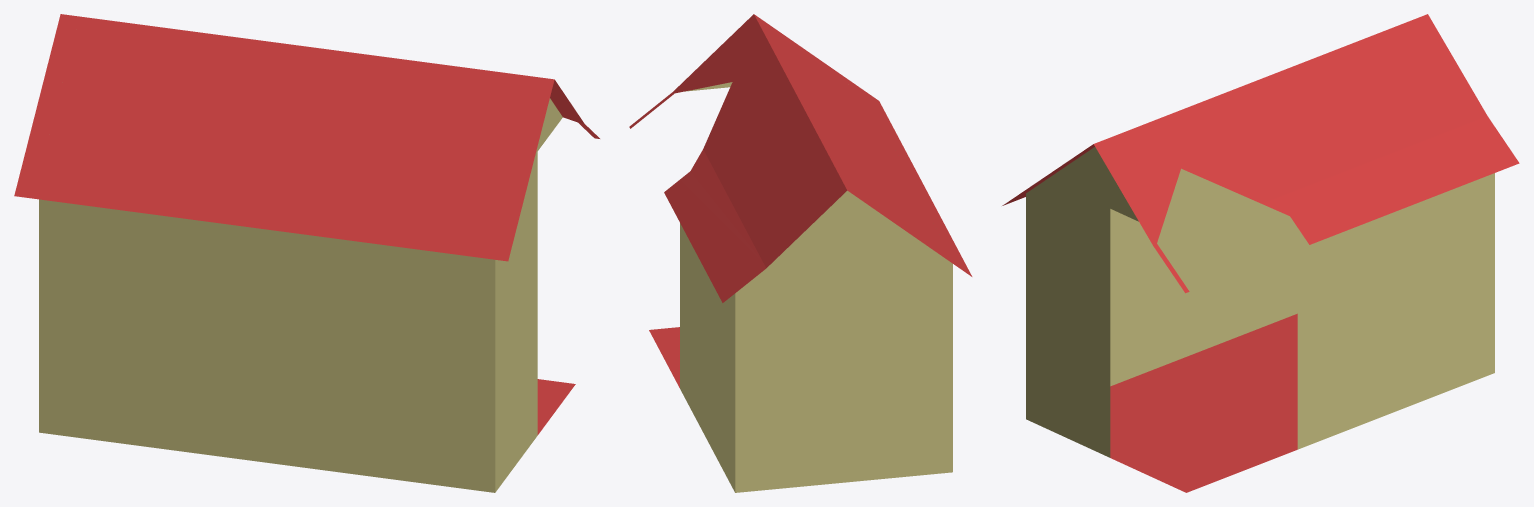
3 views of the same model, side by side, from view 1: azimuth 30°, elevation 25°; view 2: azimuth 150°, elevation 25°; view 3: azimuth 270°, elevation 25° (orthographic). The views are drawn at different scales.
Size of the model in its own units: 21.84 by 22.3 by 15.06.
